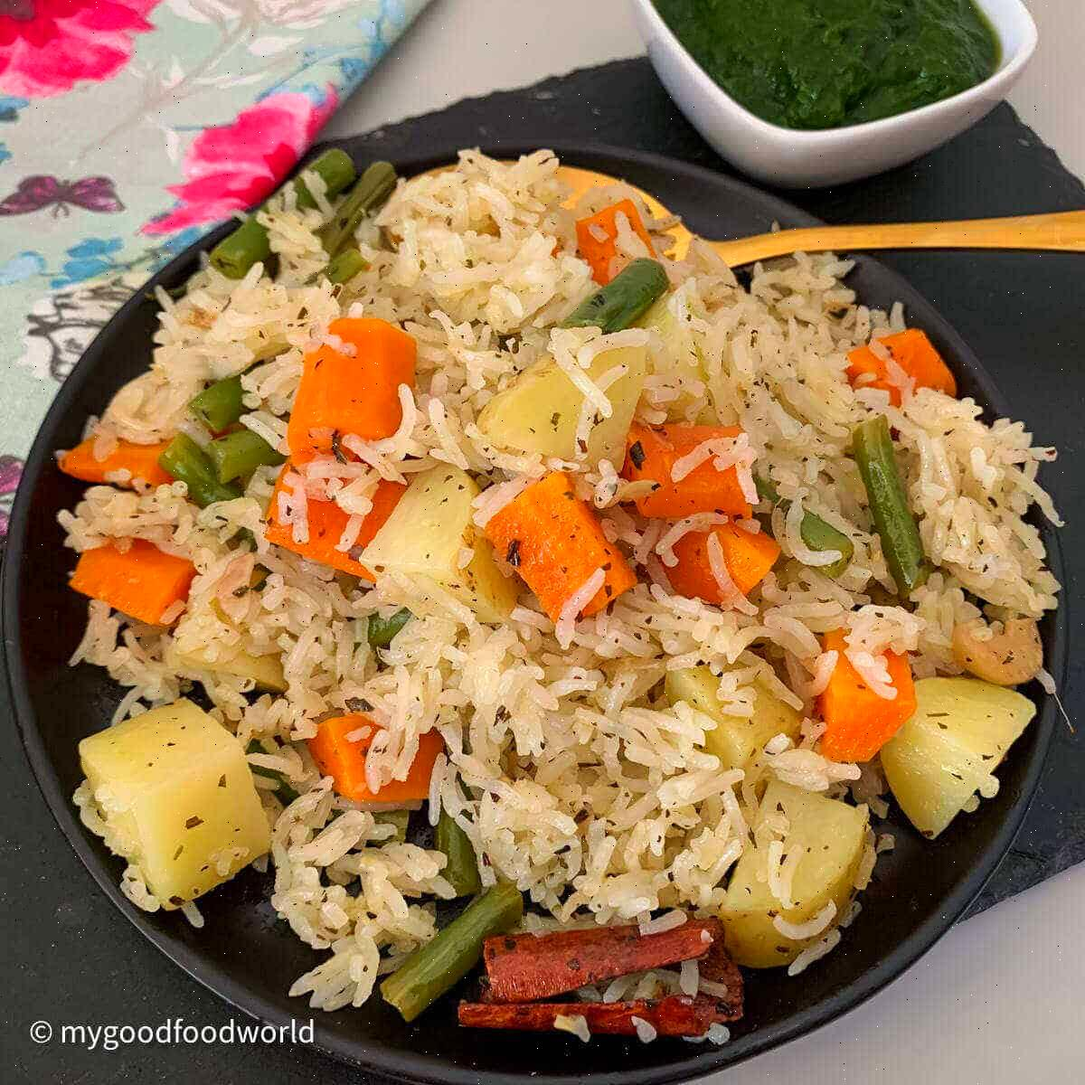veg-pulao: (91, 215, 1027, 975)
